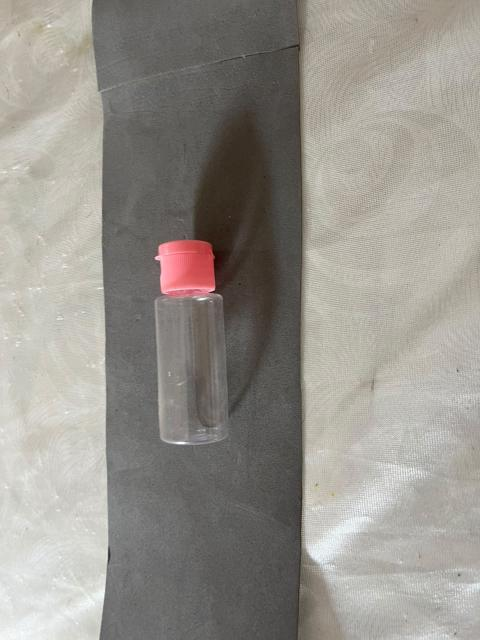PET: (115, 238, 293, 470)
